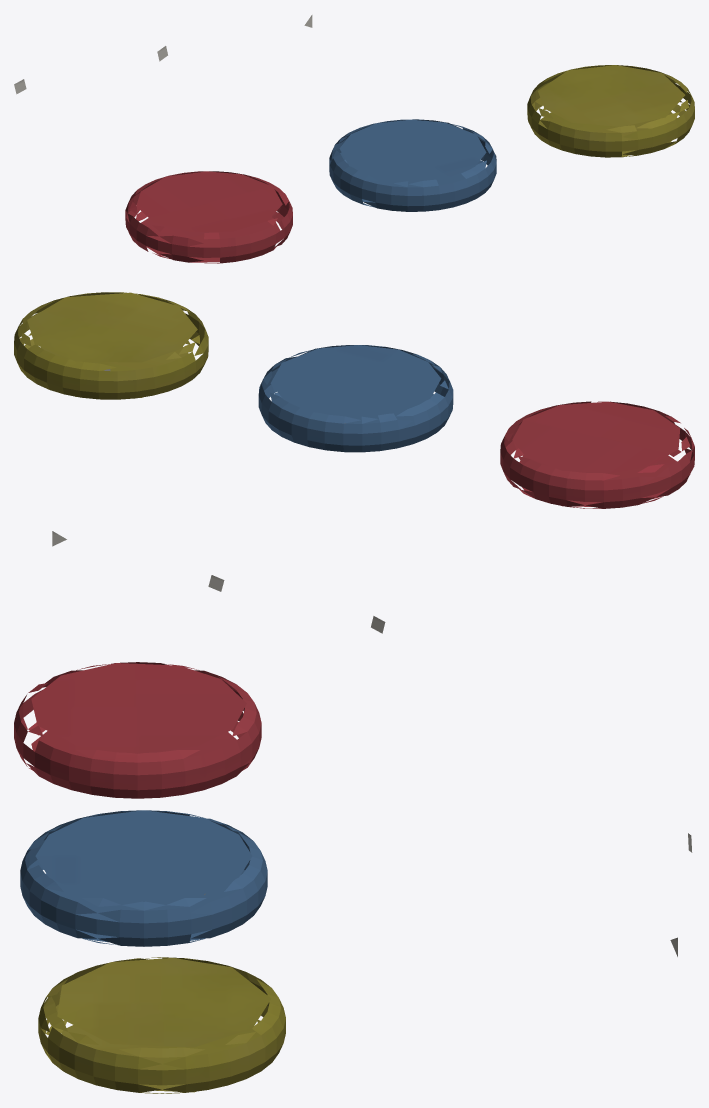
Rendered from FD09_Lollipops.glb.
3 renders of one model, top to bottom at view 1: azimuth 30°, elevation 25°; view 2: azimuth 150°, elevation 25°; view 3: azimuth 270°, elevation 25°, orthographic. The views are drawn at different scales.
Parts seen in each view (by area): view 1: FD09_Lollipops; view 2: FD09_Lollipops; view 3: FD09_Lollipops.
Part boxes in pixels (<box>): FD09_Lollipops: <box>14,15,694,263</box>; FD09_Lollipops: <box>14,292,694,633</box>; FD09_Lollipops: <box>14,662,692,1093</box>.
Size of the model in its own units: 0.2 by 0.0105 by 0.144.
4 materials, 4 textured.
